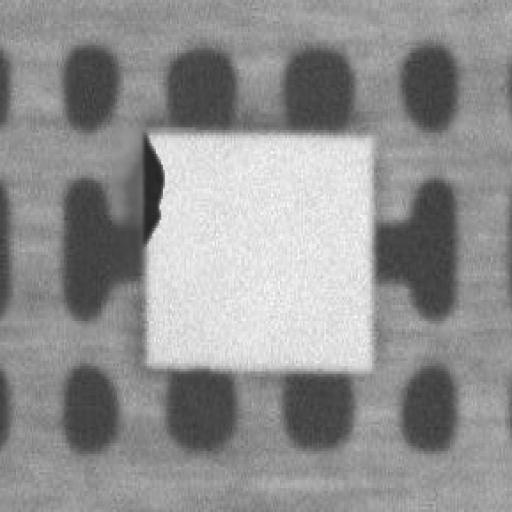DIE_BROKEN: (135, 124, 163, 254)
